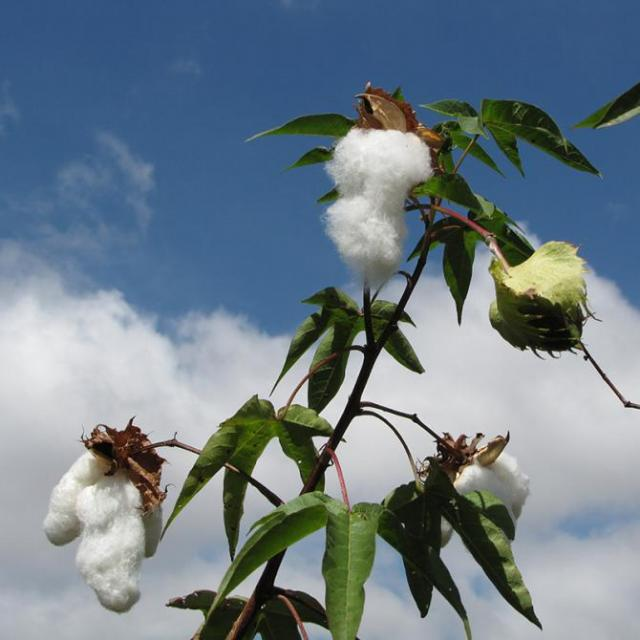Leaf: (312, 71, 461, 308), (36, 405, 182, 628), (427, 426, 533, 539)
